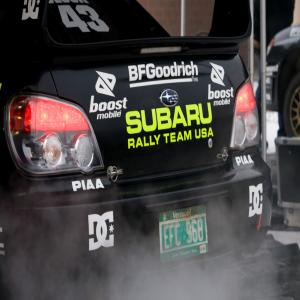Vehicle-registration-plate: (159, 214, 213, 260)
